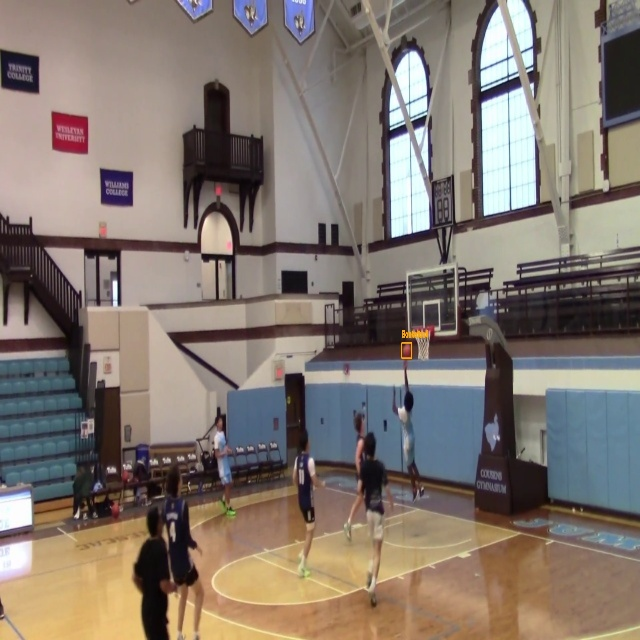Basketball: (402, 343, 412, 358)
